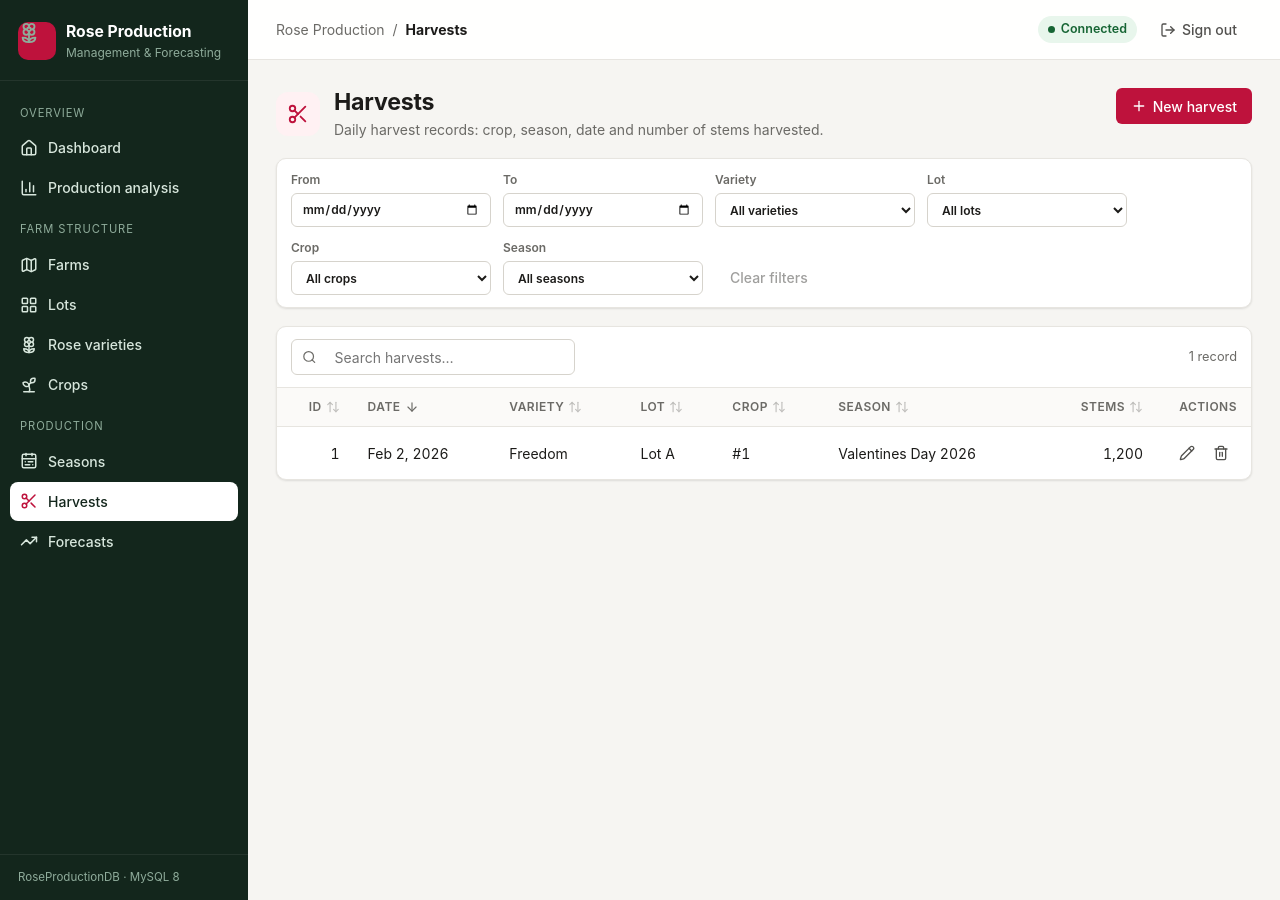
Test case: harvest form › posts a valid harvest and shows server-side rule violations
Expected: the text "Valentines Day 2026" is shown, [824,426,1040,479]
Click the button "New harvest".
click(1184, 106)  # box [1116,88,1252,124]
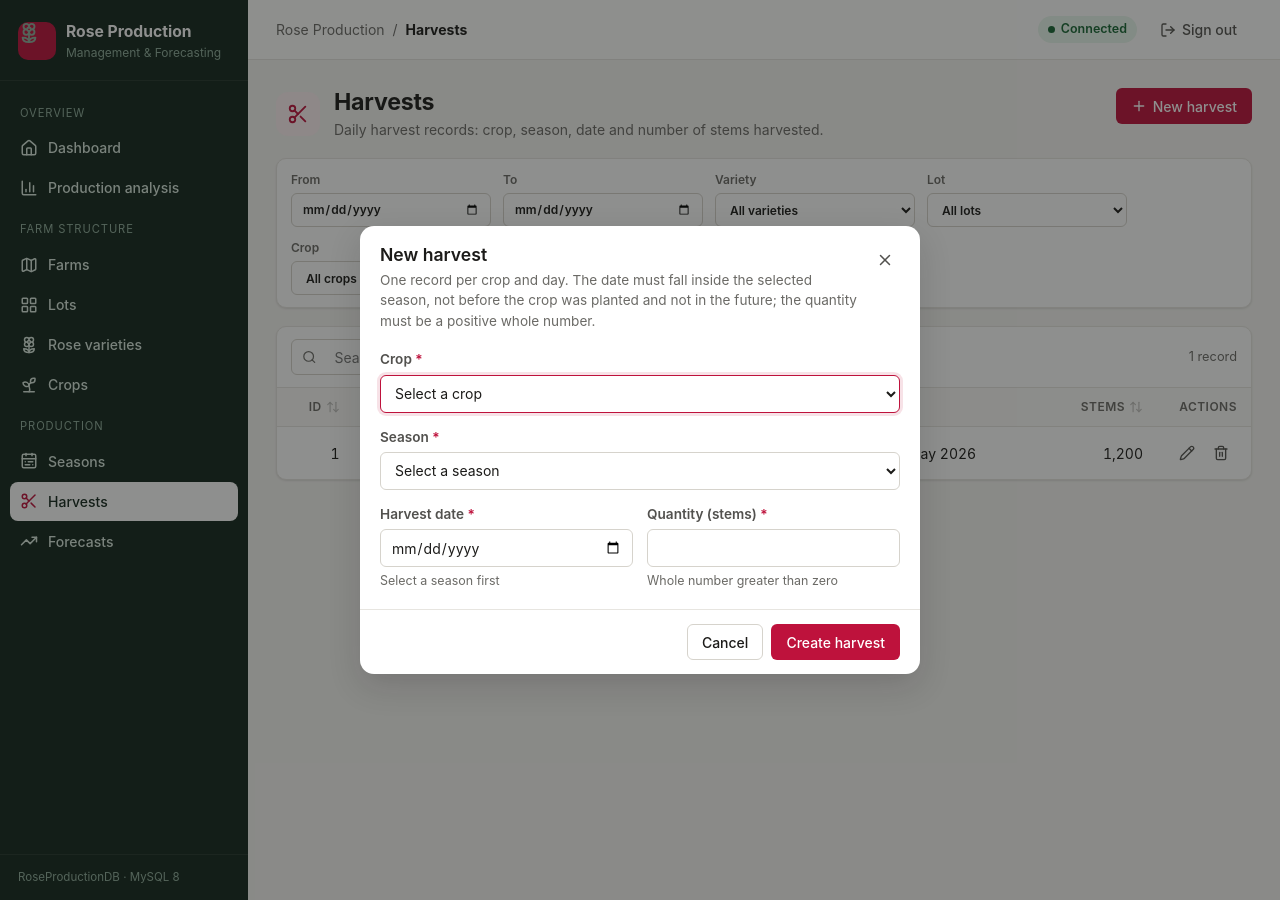
Select "#1 · Freedom · Lot A" in the dropdown labelled "Crop *" at (640, 394), box [380,374,900,412]
Select "Valentines Day 2026 (2026-02-01 → 2026-02-14)" in the dropdown labelled "Season *" at (640, 471), box [380,452,900,490]
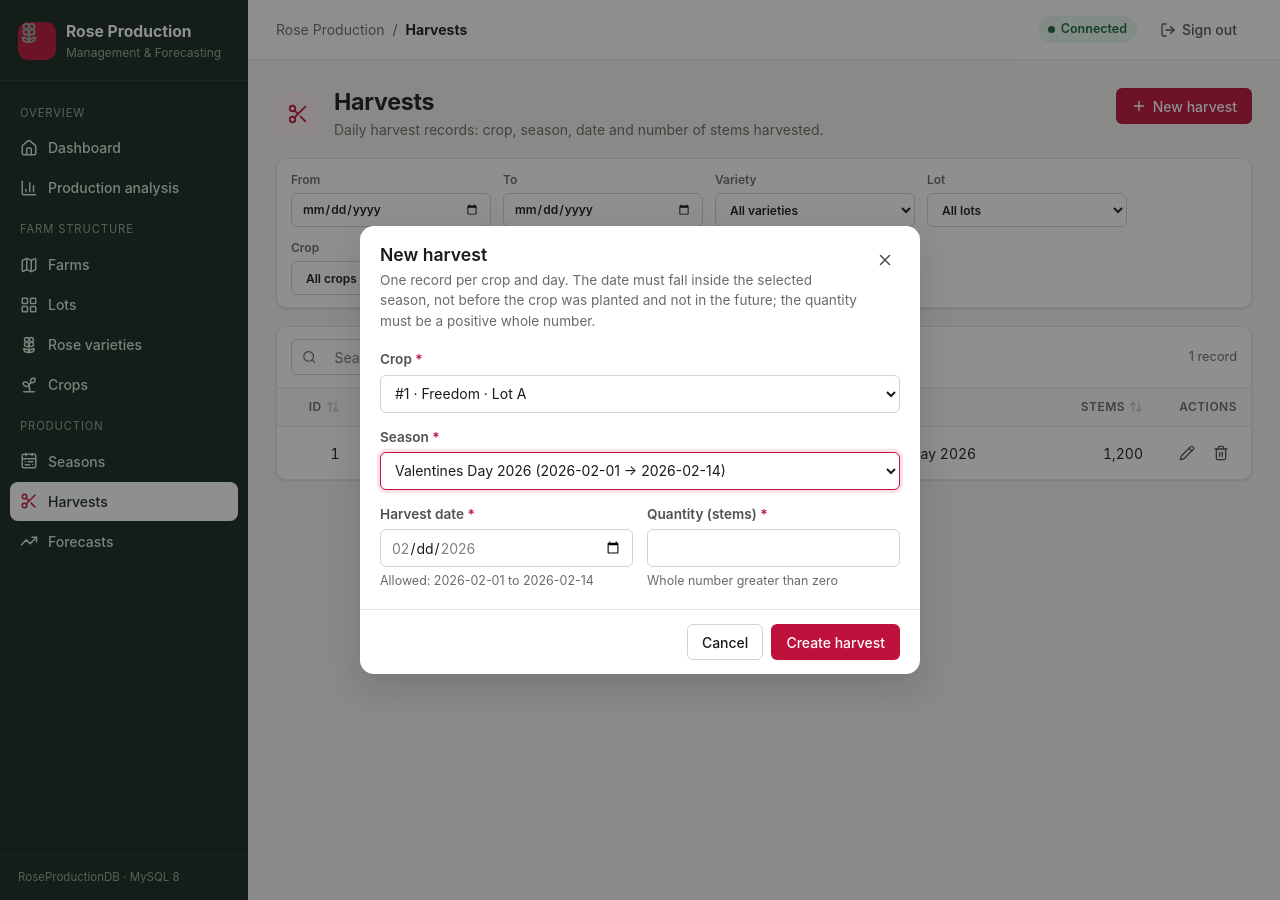
Type "2026-02-10" into the date field labelled "Harvest date *".
click(506, 548); type("2026-02-10")  # box [380,529,633,567]
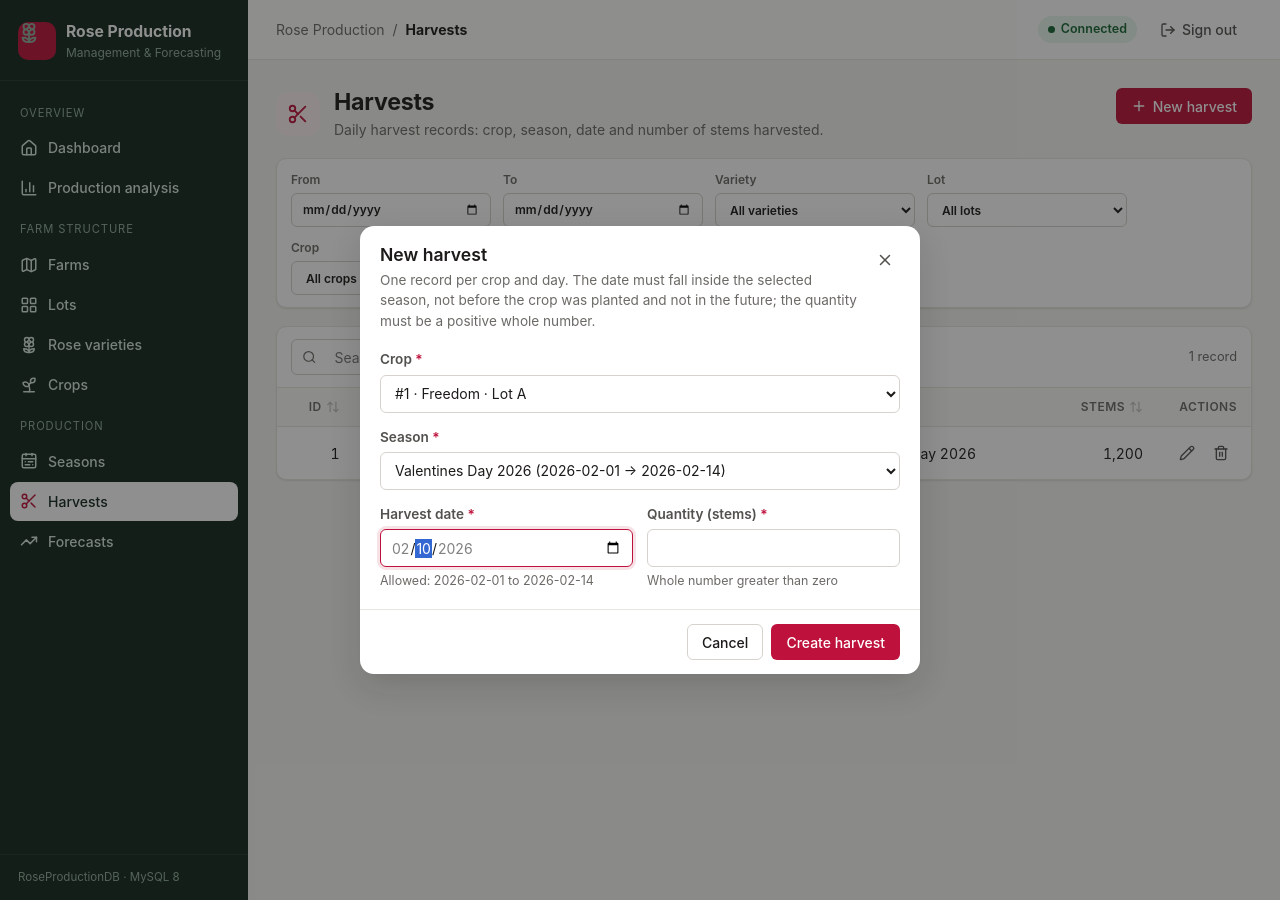
Type "1500" into the number field labelled "Quantity (stems) *".
click(774, 548); type("1500")  # box [647,529,900,567]
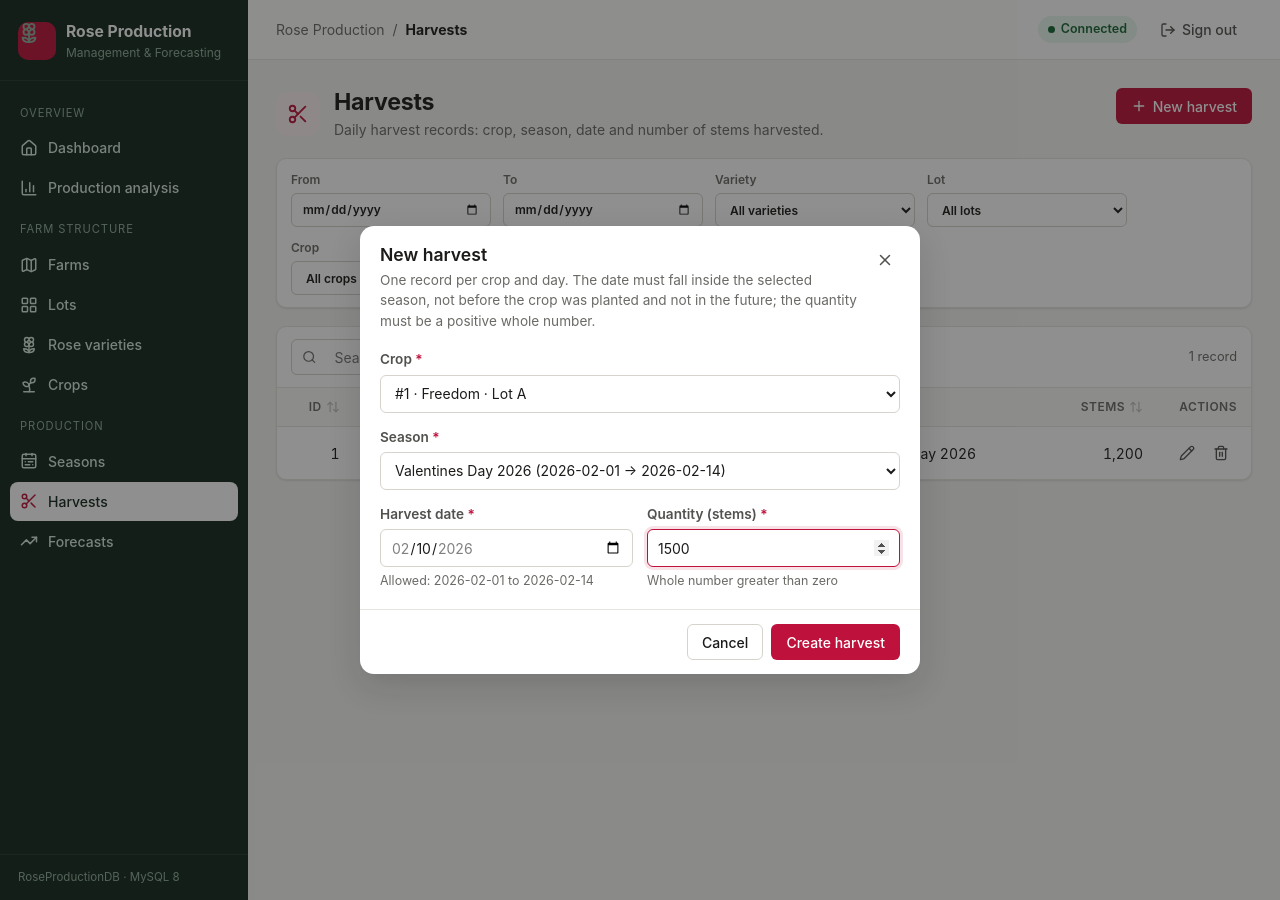
Click the button "Create harvest".
click(836, 642)  # box [771,624,900,660]
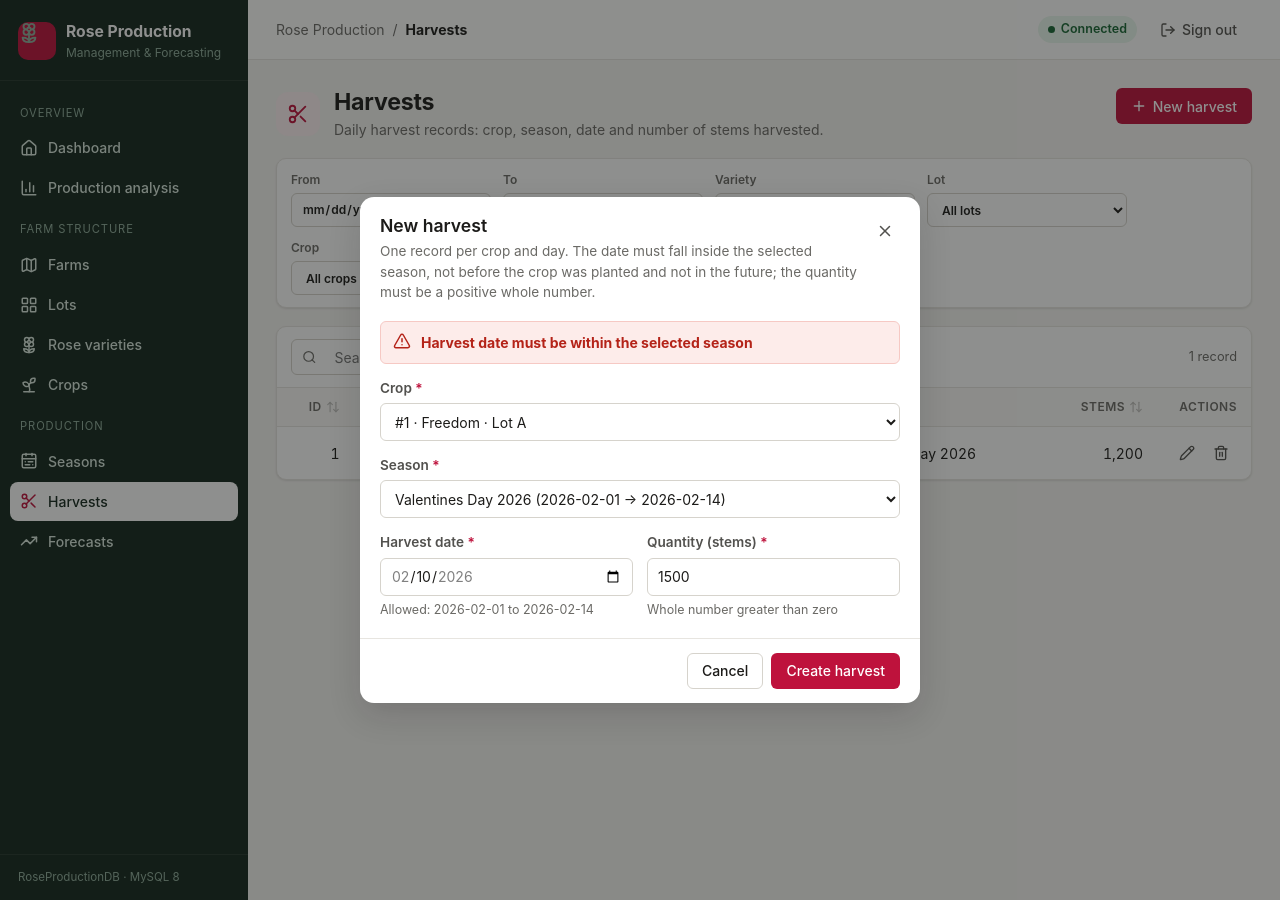
Expected: the text "Harvest date must be within the selected season" is shown, [421,334,753,351]
Click the button "Create harvest".
click(836, 670)  # box [771,652,900,688]
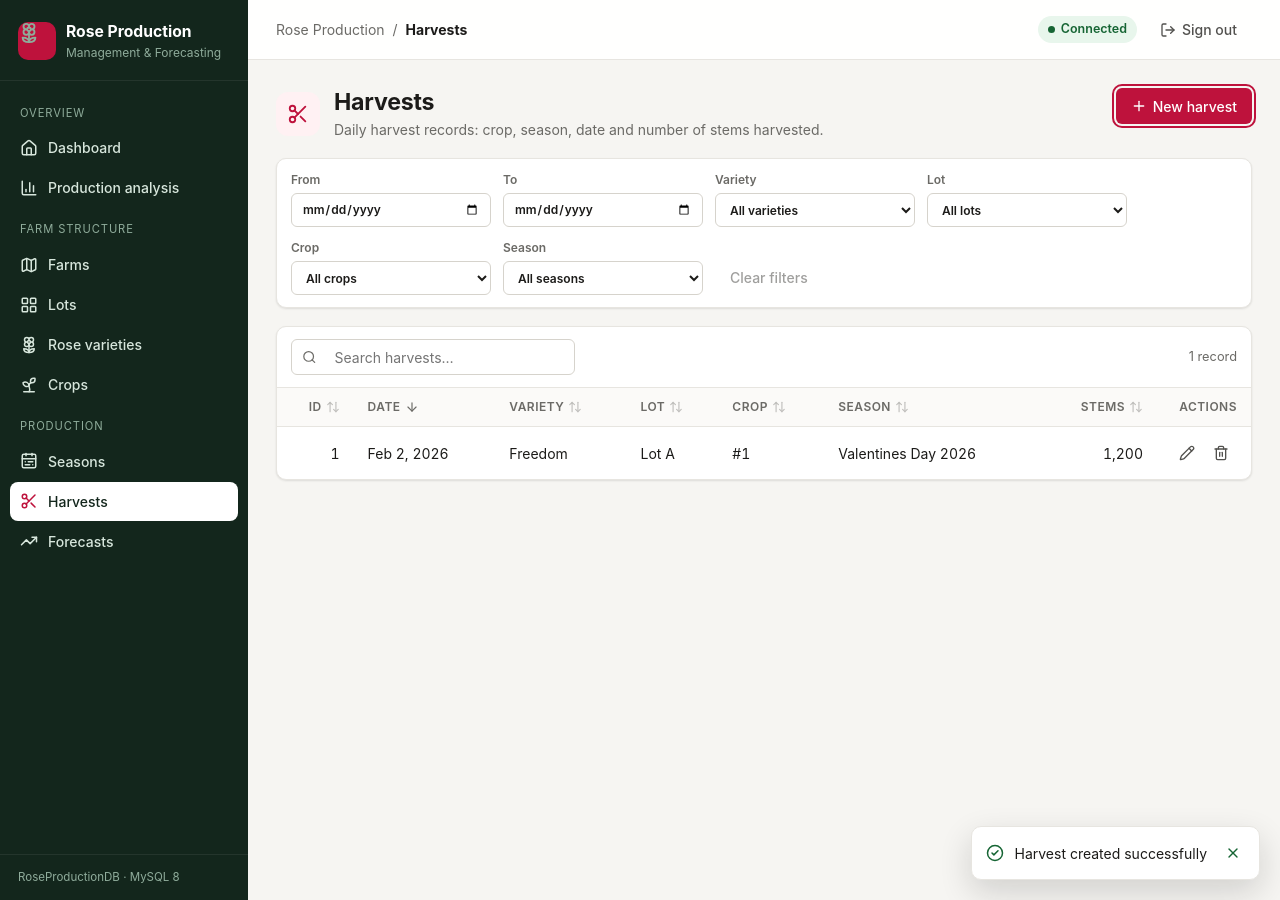
Expected: the text "Harvest created successfully" is shown, [1014,842,1207,864]
